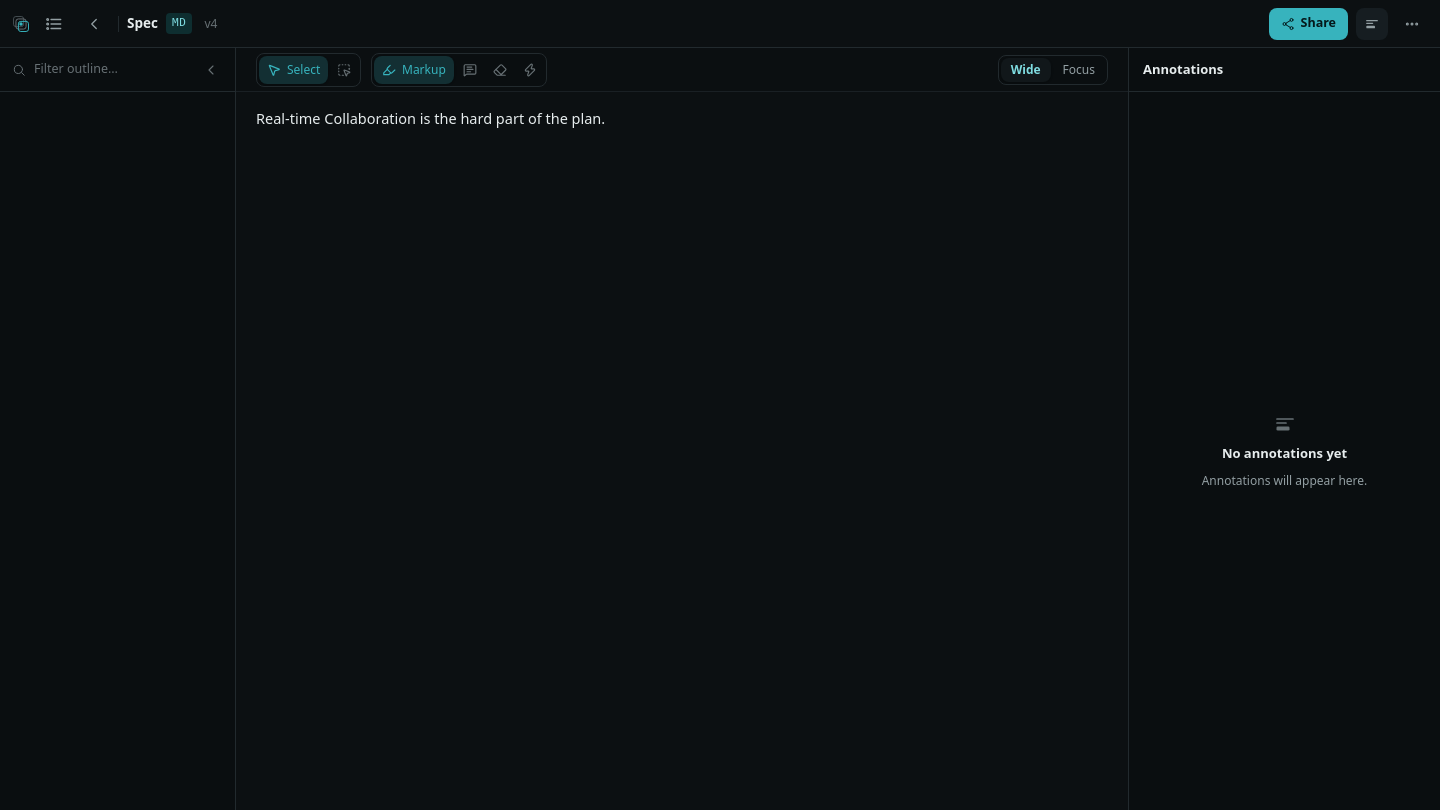
Test: Markup tool routing S-006 (C-009) › AS-022: Redline tool active → selecting strikes the selection directly (no popover)
Check: the element with test id "markdown-view" is shown, box [256,108,605,128]
Check: the element with test id "annotations-rail" is shown, box [1129,48,1439,489]
Click the button named "Redline" at {"x": 500, "y": 70}, box [486,56,514,84]
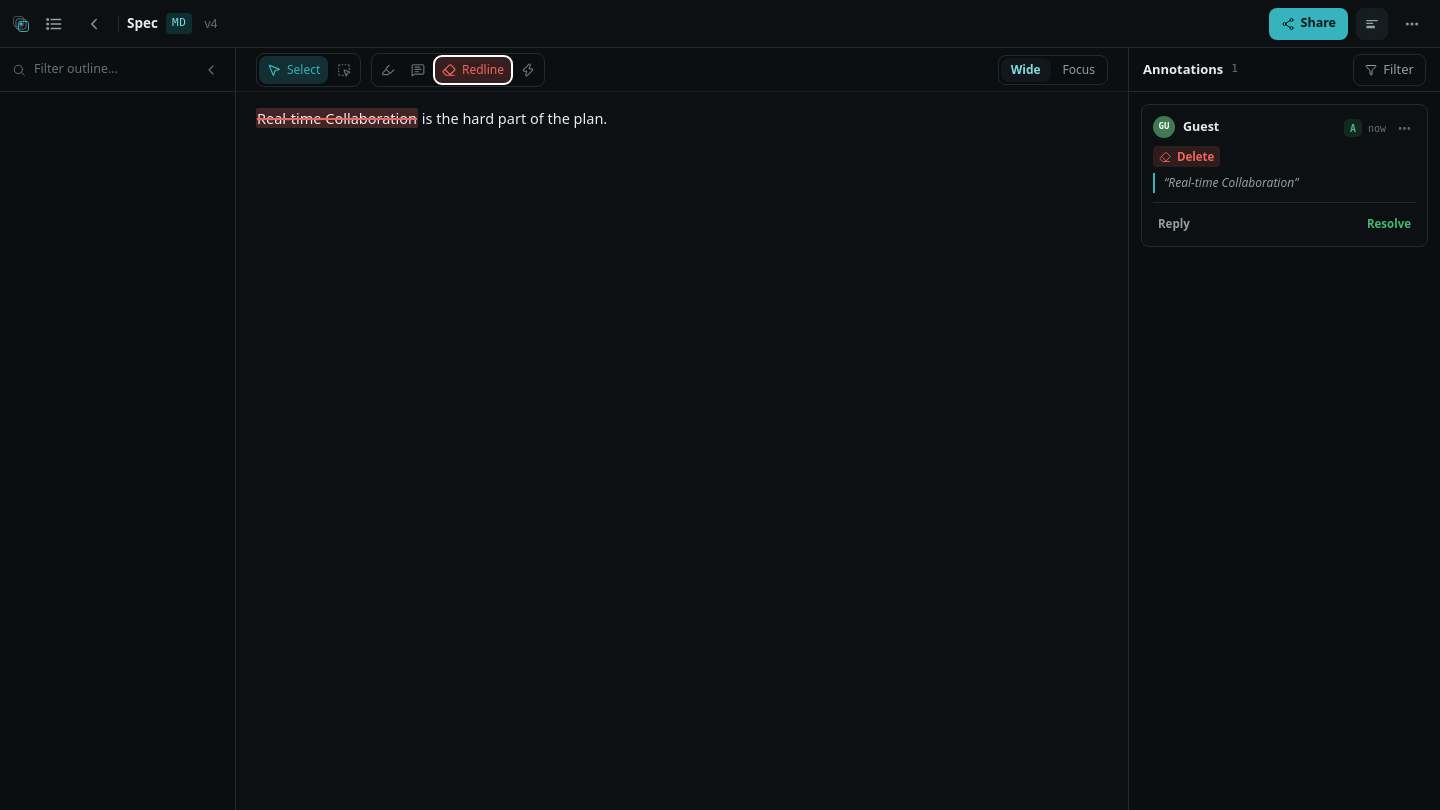
Check: the text "Real-time Collaboration" is shown, box [256,108,418,128]
